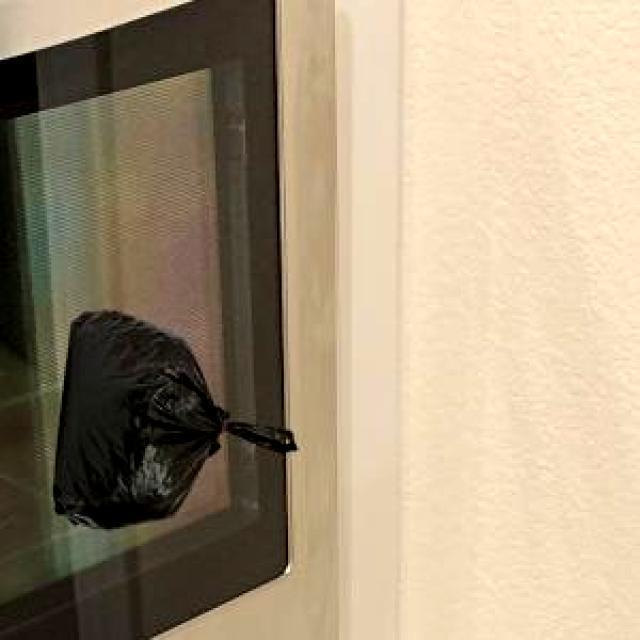Bolsa-de-nilon: (55, 312, 290, 542)
